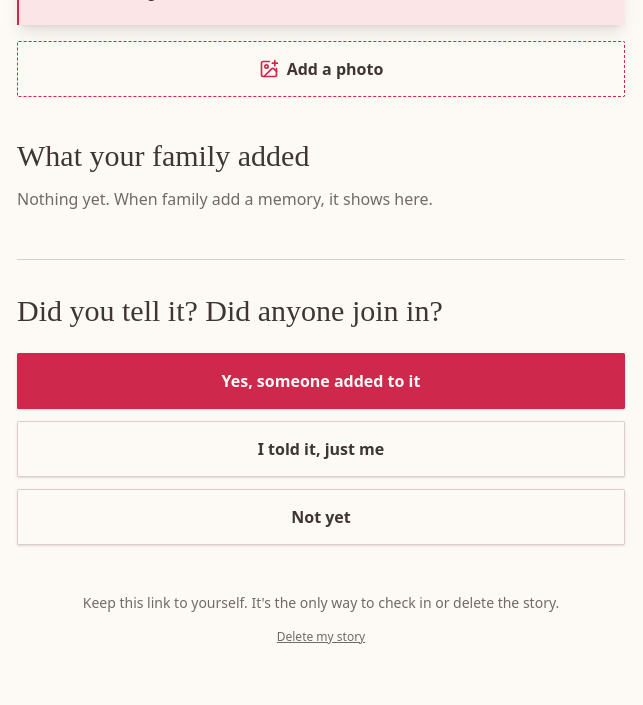
Test: Remember When mutation recovery › does not accept a failed check-in and permits retry
Later steps or results of the test are not shown.
(page scrolled)
Click the button "Not yet": (321, 517) x1=17 y1=489 x2=625 y2=545
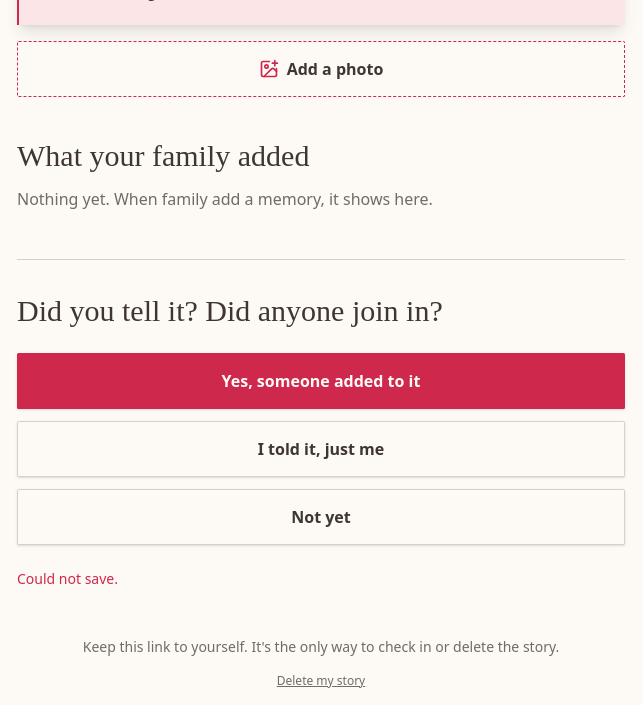
Now the message "Could not save." is shown, box x1=17 y1=569 x2=118 y2=588
